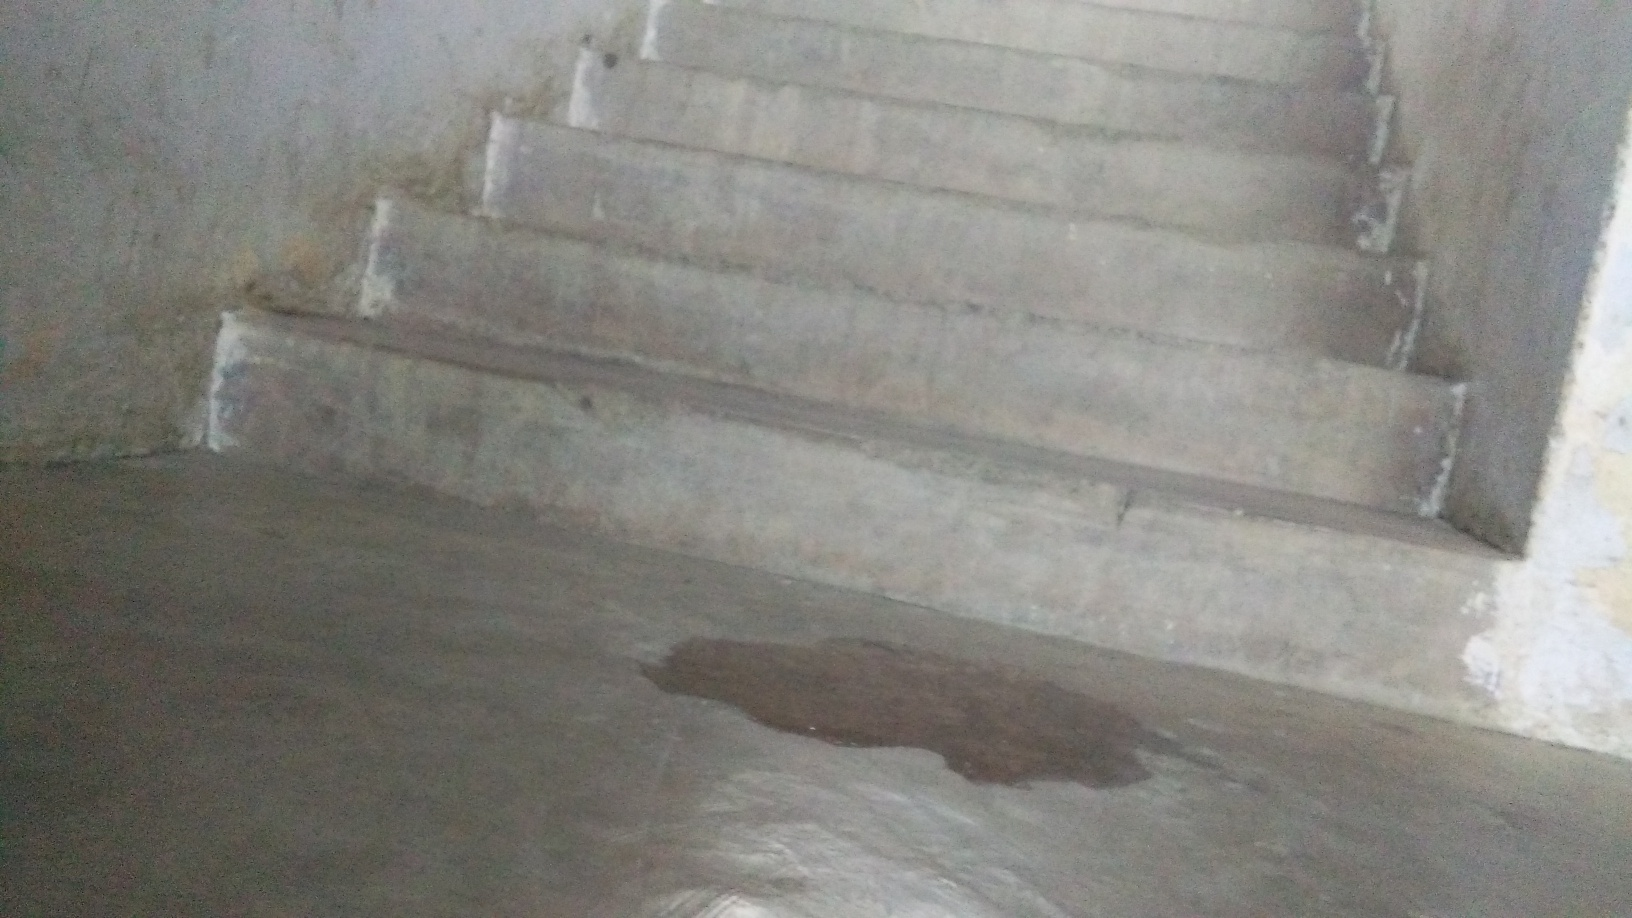stairs_up: (210, 29, 1376, 634)
